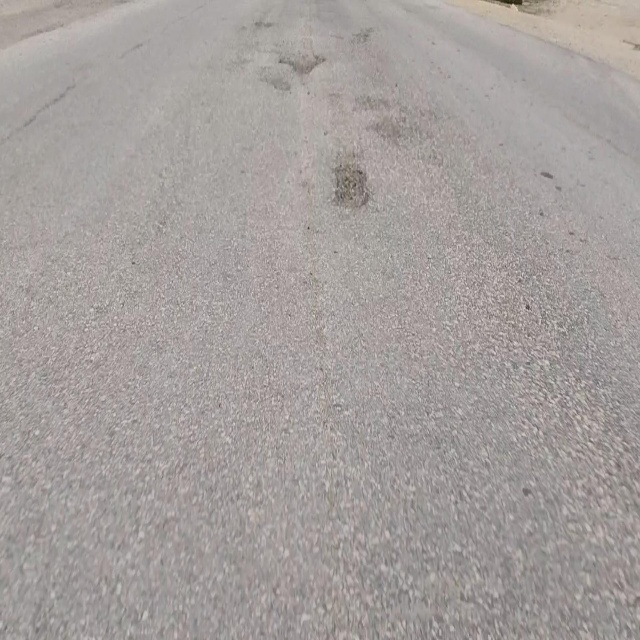pothole: (330, 162, 370, 215)
